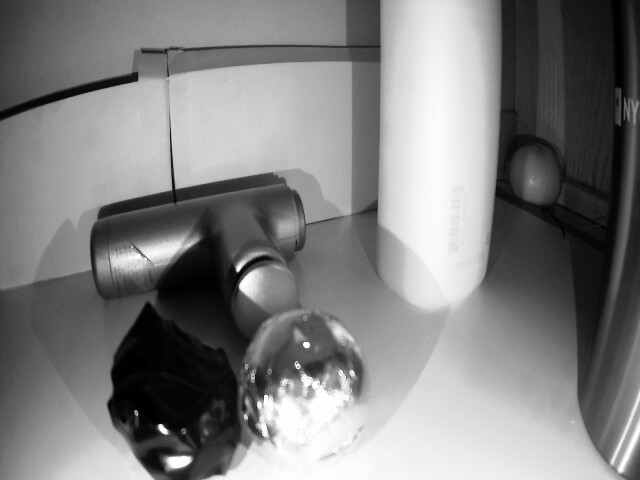black: (100, 324, 255, 472)
silver: (239, 306, 382, 463)
